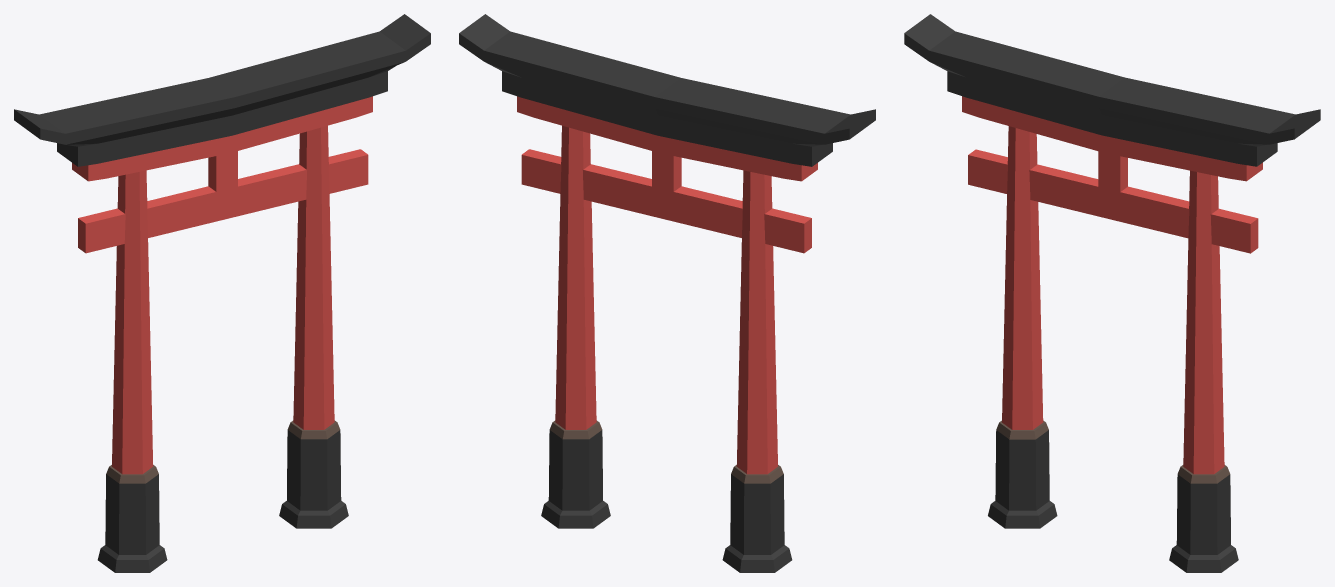
Rendered from Small_Torii.fbx.
3 views of the same model, side by side, from view 1: azimuth 30°, elevation 25°; view 2: azimuth 150°, elevation 25°; view 3: azimuth 330°, elevation 25° (orthographic).
Visible parts, largest first — view 1: OWnG_averageGate(MyojinTorii)_01; view 2: OWnG_averageGate(MyojinTorii)_01; view 3: OWnG_averageGate(MyojinTorii)_01.
Boxes of the visible parts, bbox=[...] form: OWnG_averageGate(MyojinTorii)_01: bbox=[14, 14, 430, 572]; OWnG_averageGate(MyojinTorii)_01: bbox=[459, 14, 875, 572]; OWnG_averageGate(MyojinTorii)_01: bbox=[904, 14, 1320, 572].
Bounding box in the file's own units: 690 × 788 × 107.
